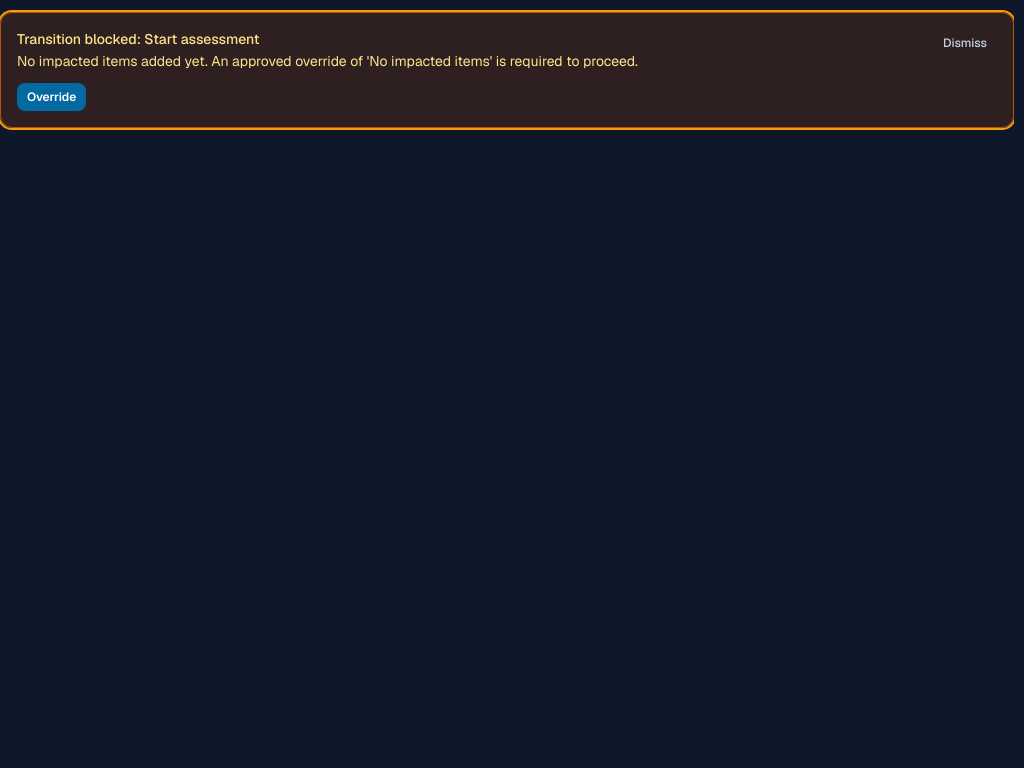
Test: DeviationBanner › asks for an override bound to the refusing rule, with a reason pick
Later steps or results of the test are not shown.
Click the button "Override".
click(52, 97)  # box [17,83,86,111]
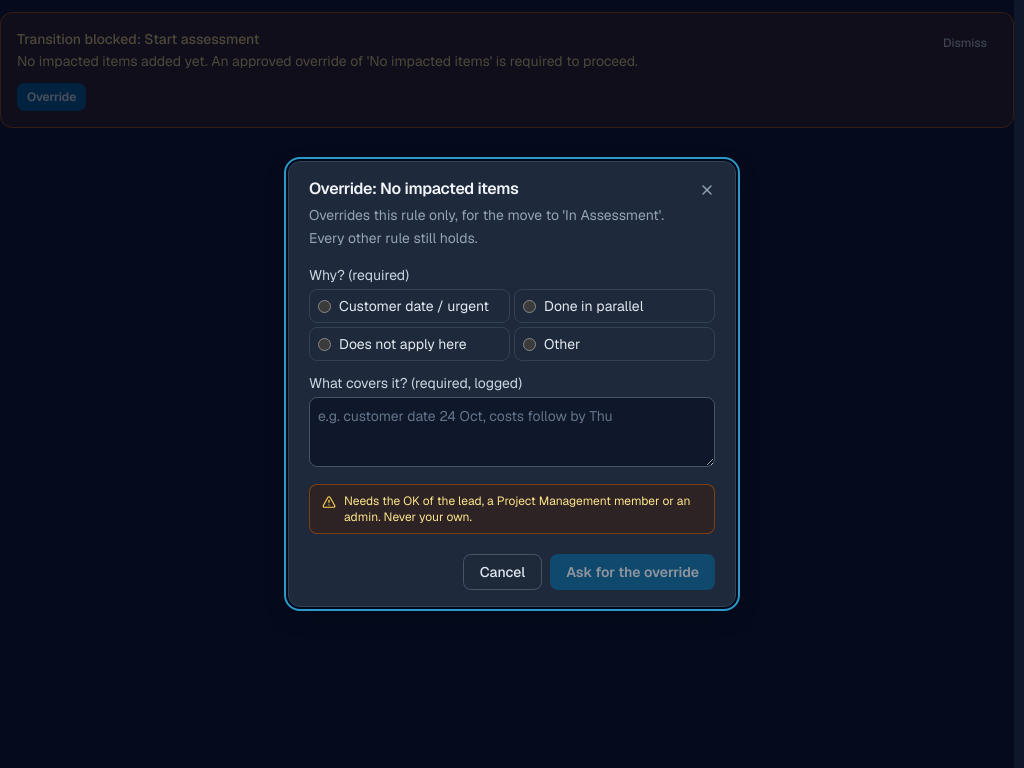
Check: the dialog with test id "override-dialog" shows "Override: No impacted items", box [309,178,518,199]
Type "PPT only" into the text box with test id "override-note".
click(512, 432); type("PPT only")  # box [309,397,715,467]
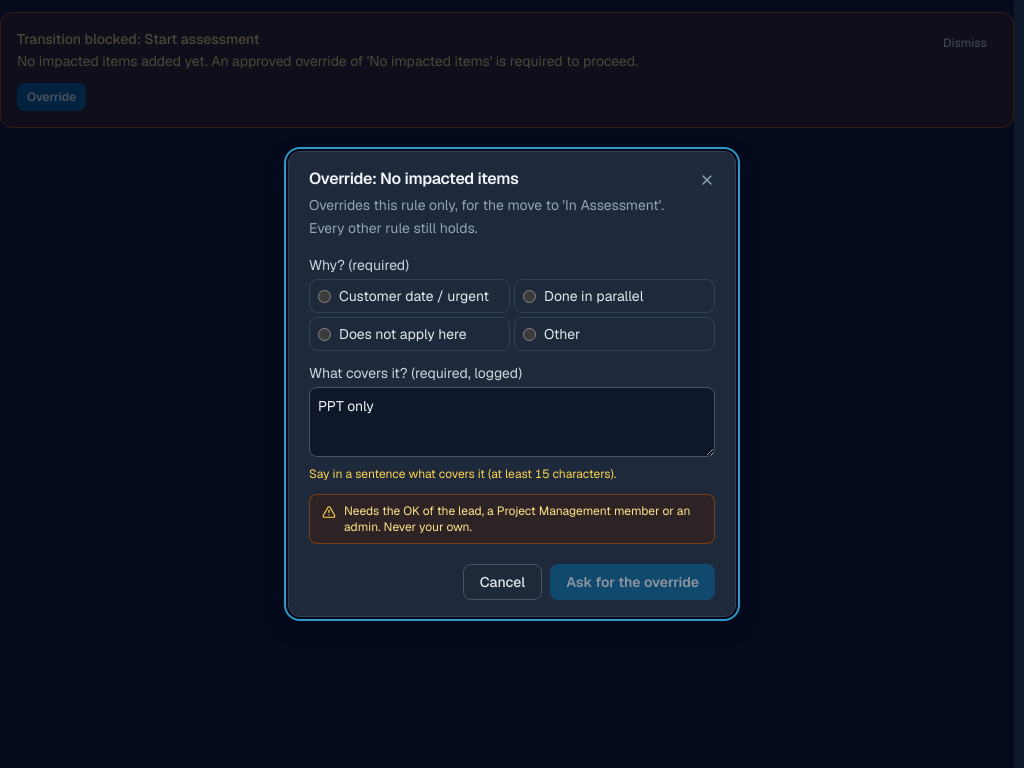
Check: the button with test id "override-submit" is disabled, box [550,564,715,600]
Click the radio button with test id "override-reason-customer_date".
click(324, 296)  # box [318,290,331,303]
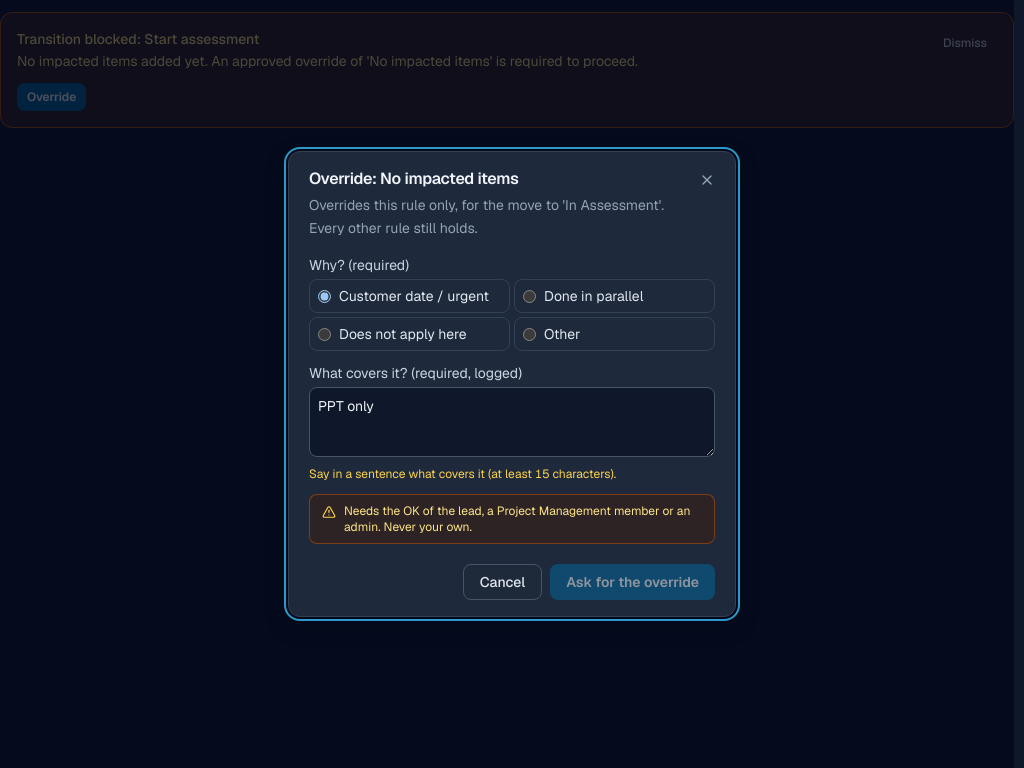
Check: the button with test id "override-submit" is disabled, box [550,564,715,600]
Check: the text with test id "override-note-hint" shows "at least 15 characters", box [309,466,616,482]
Replace the text in the text box with test id "override-note" with "PPT only, the customer waits" at (512, 422), box [309,387,715,457]
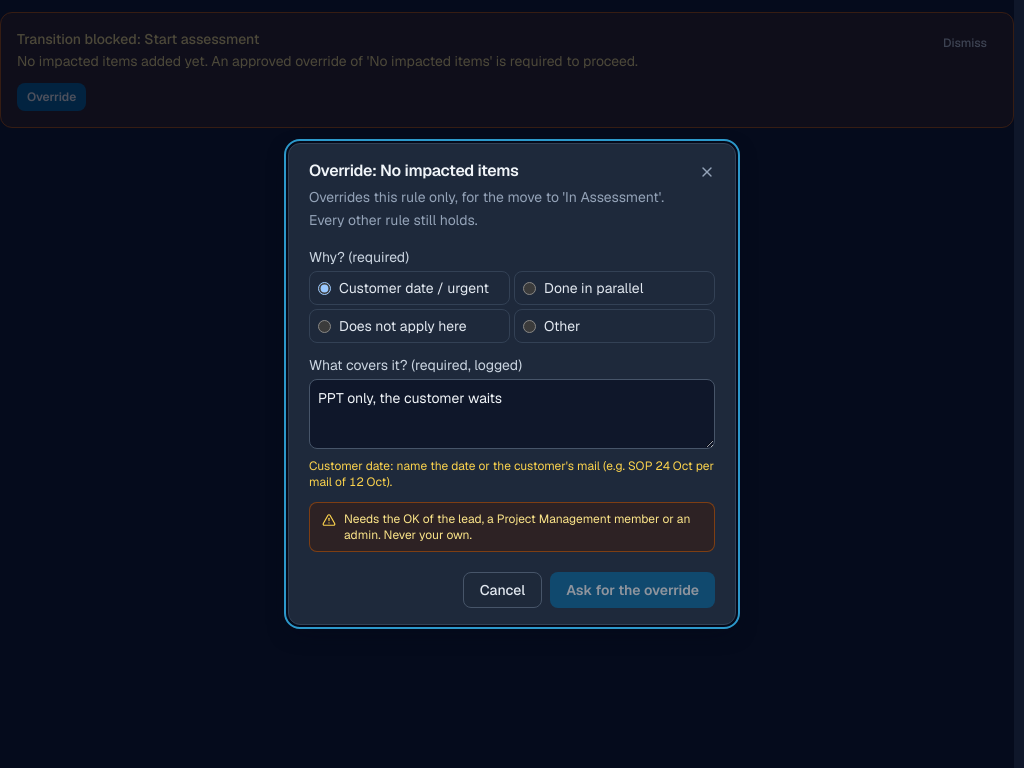
Check: the text with test id "override-note-hint" shows "name the date", box [309,458,714,490]
